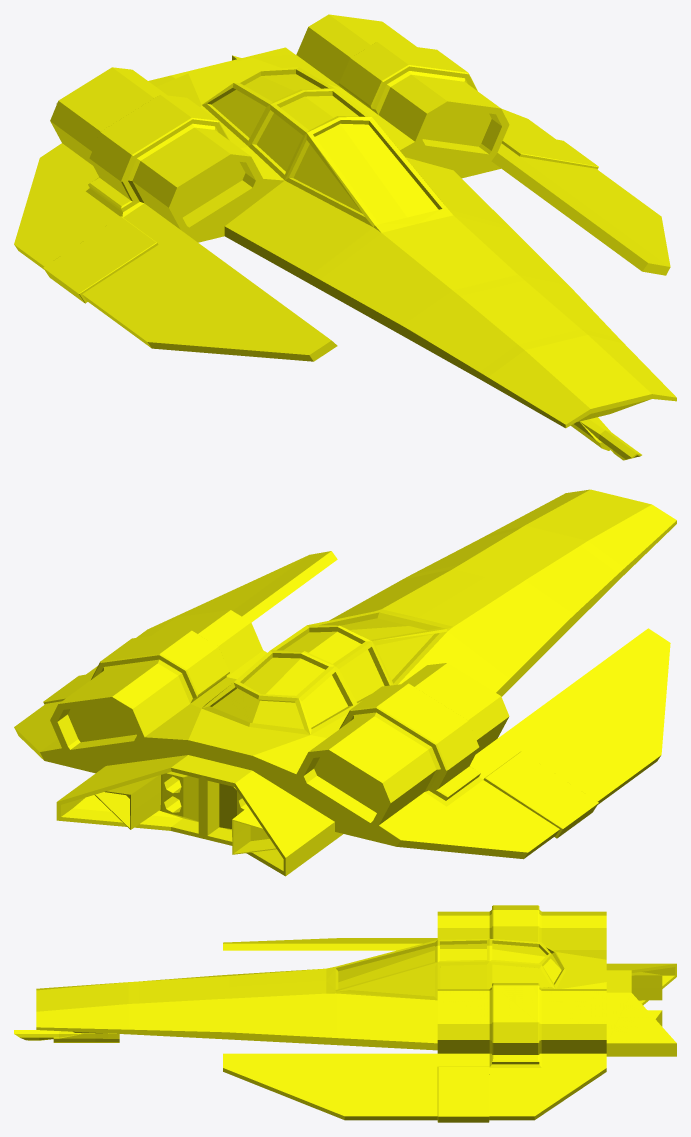
Rendered from player_ship.glb.
The picture shows the model from 3 angles, top to bottom: view 1: azimuth 30°, elevation 25°; view 2: azimuth 150°, elevation 25°; view 3: azimuth 270°, elevation 25°; orthographic projection. The views are drawn at different scales.
Visible parts, largest first — view 1: Feisar_Ship; view 2: Feisar_Ship; view 3: Feisar_Ship.
Boxes of the visible parts, x1,y1,x2,y2 form: Feisar_Ship: (14, 14, 676, 460); Feisar_Ship: (14, 489, 676, 876); Feisar_Ship: (14, 905, 676, 1122).
Bounding box in the file's own units: 5.48 × 1.37 × 8.49.
1 material, 1 textured.
